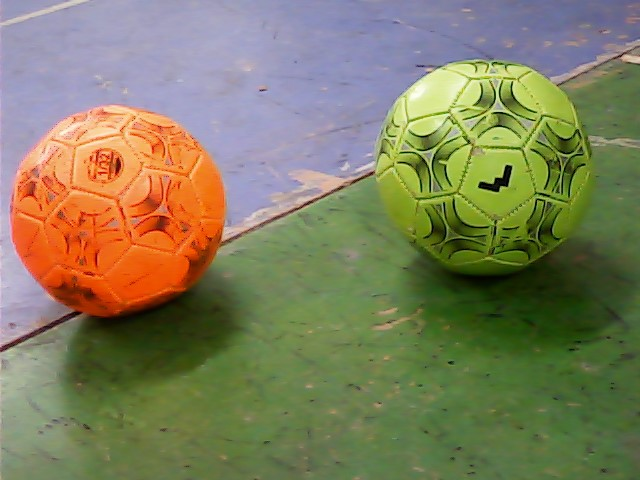Green_ball: (374, 55, 598, 279)
Orange_ball: (8, 105, 232, 318)
